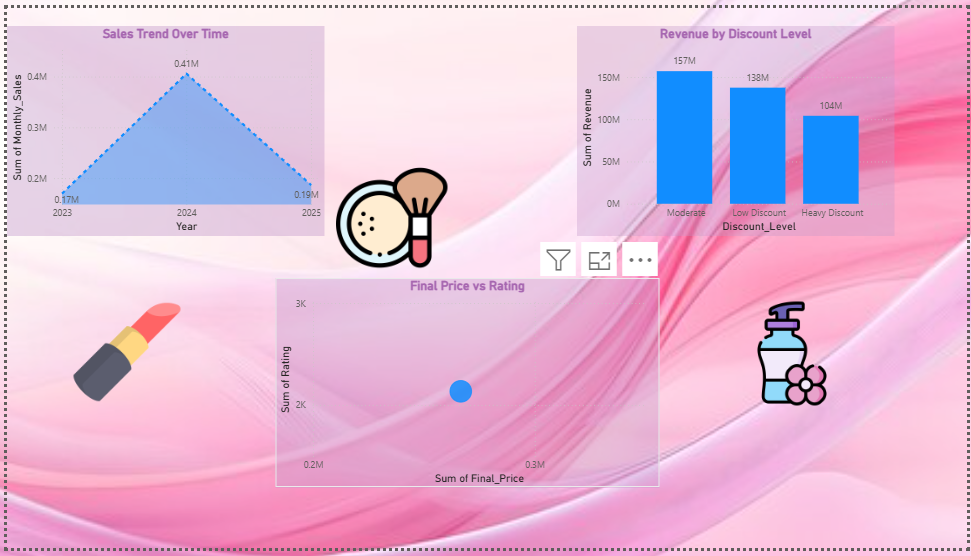

Layout of this report page (visuals, bound fields, positions):
{"tool":"powerbi","page":{"name":"Page 2","canvas":[1280,720],"ordinal":1},"visuals":[{"type":"lineChart","title":"Sales Trend Over Time","fields":{"Category":["beauty_products_500.Launch_Date.Variation.Date Hierarchy.Year","beauty_products_500.Launch_Date.Variation.Date Hierarchy.Month"],"Y":["Sum(beauty_products_500.Monthly_Sales)"]},"box":[0,24.6,423.3,279.7],"z":0},{"type":"columnChart","title":"Revenue by Discount Level","fields":{"Category":["beauty_products_500.Discount_Level"],"Y":["Sum(beauty_products_500.Revenue)"]},"box":[759.7,24.6,423.3,279.7],"z":1},{"type":"scatterChart","title":"Final Price vs Rating","fields":{"X":["Sum(beauty_products_500.Final_Price)"],"Y":["Sum(beauty_products_500.Rating)"],"Size":["Sum(beauty_products_500.Revenue)"]},"box":[357.2,359.1,512.1,279.7],"z":2},{"type":"image","box":[0,381.7,319.4,153.1],"z":3},{"type":"image","box":[423.3,200.3,177.6,158.7],"z":4},{"type":"image","box":[971.3,385.5,149.3,149.3],"z":5}]}

Visuals, with their boxes in screenshot pixels (x1, y1, x2, y2), scaled from the page's 1280x720 canvas onto the 971x556 screenshot:
"Sales Trend Over Time" lineChart: (0,19,321,235)
"Revenue by Discount Level" columnChart: (576,19,897,235)
"Final Price vs Rating" scatterChart: (271,277,659,493)
image: (0,295,242,413)
image: (321,155,456,277)
image: (737,298,850,413)
